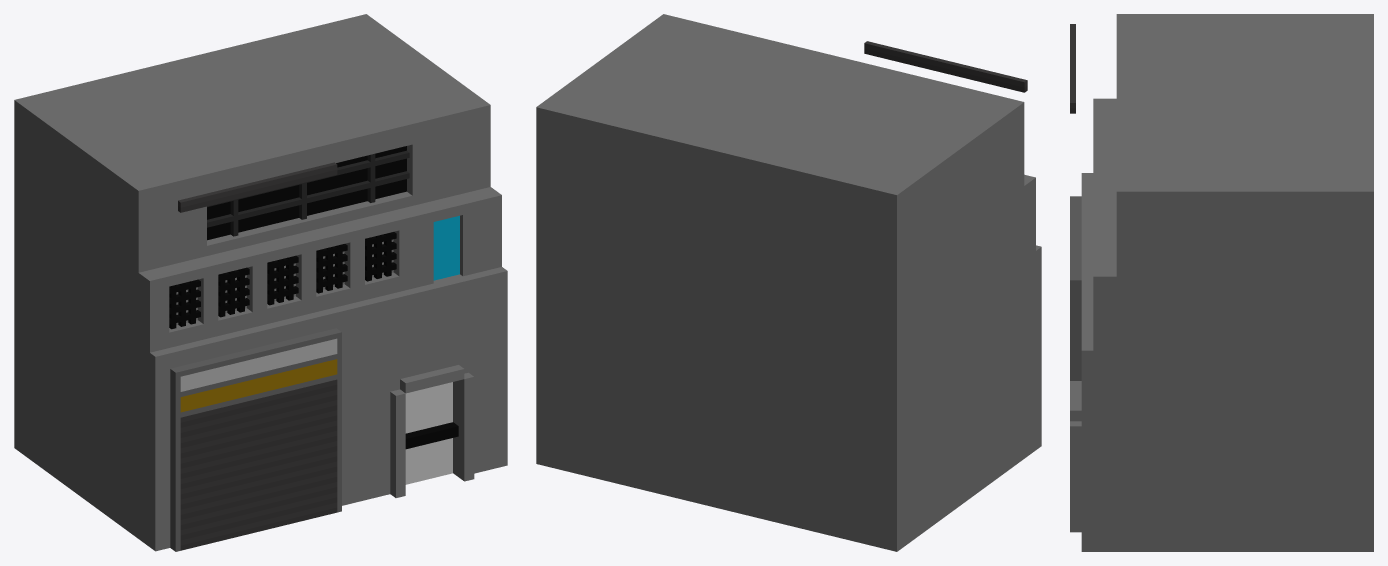
File: HouseGroup-3-FourHouse.obj
3 views of the same model, side by side, from view 1: azimuth 30°, elevation 25°; view 2: azimuth 150°, elevation 25°; view 3: azimuth 270°, elevation 25° (orthographic). The views are drawn at different scales.
Parts seen in each view (by area): view 1: FourHouse; view 2: FourHouse; view 3: FourHouse.
Boxes of the visible parts, x1,y1,x2,y2 form: FourHouse: [14, 14, 507, 551]; FourHouse: [536, 14, 1041, 551]; FourHouse: [1070, 14, 1373, 551].
Size of the model in its own units: 7.2 by 6.8 by 5.2.
